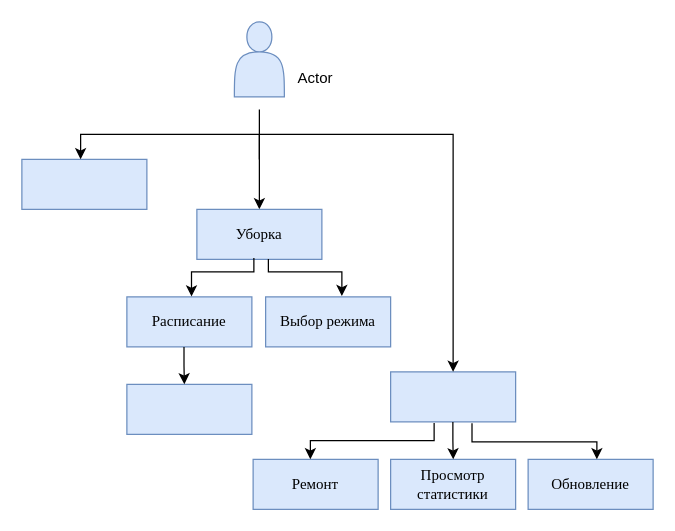
The diagram is 675 pixels wide and 531 high, and some of its shapes have lost their labels. The shapes that lost their labels are listed below. From the top down, each one's box as (x1, y1, x2, y2) in pixels, then its label:
(21, 158, 147, 209): Подключение
(126, 383, 252, 434): График
(389, 371, 516, 422): Обслуживание
